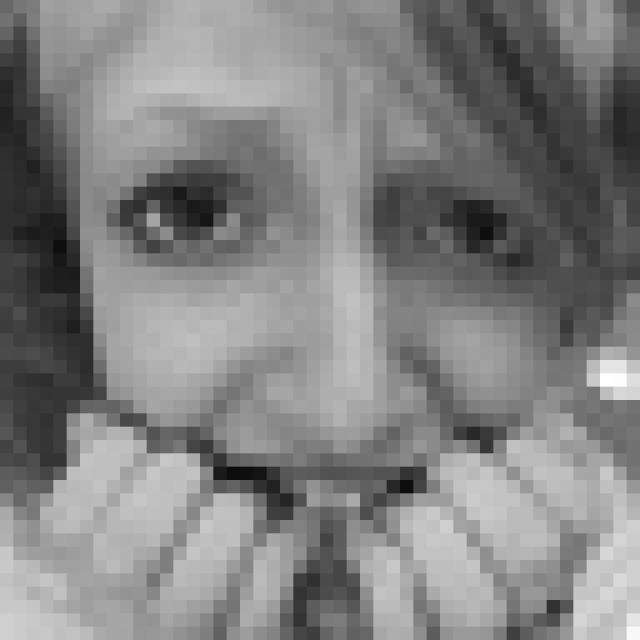fear: (107, 99, 558, 586)
